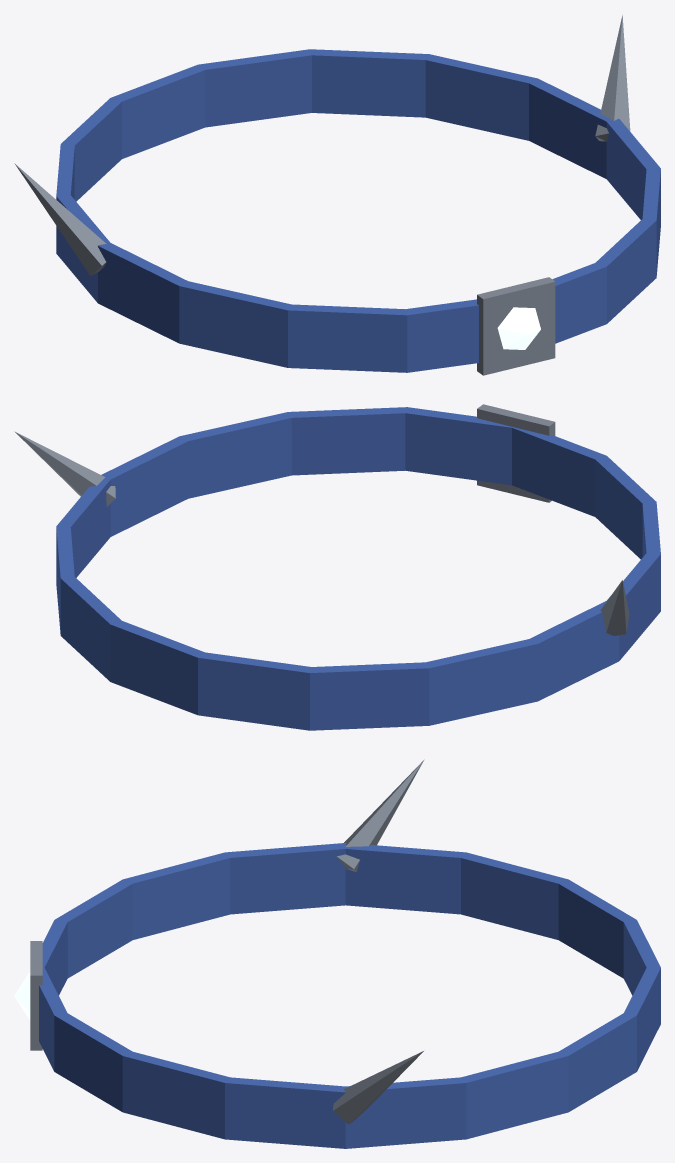
Rendered from armor_guard_head_rare_human.glb.
3 views of the same model, one above another, from view 1: azimuth 30°, elevation 25°; view 2: azimuth 150°, elevation 25°; view 3: azimuth 270°, elevation 25° (orthographic).
Parts seen in each view (by area): view 1: armor_guard_head_rare_human__head; view 2: armor_guard_head_rare_human__head; view 3: armor_guard_head_rare_human__head.
Part boxes in pixels (x1,y1,x2,y2): armor_guard_head_rare_human__head: (14,15,660,375); armor_guard_head_rare_human__head: (14,404,660,730); armor_guard_head_rare_human__head: (14,759,660,1148).
Size of the model in its own units: 67.45 by 13.9 by 63.3.
